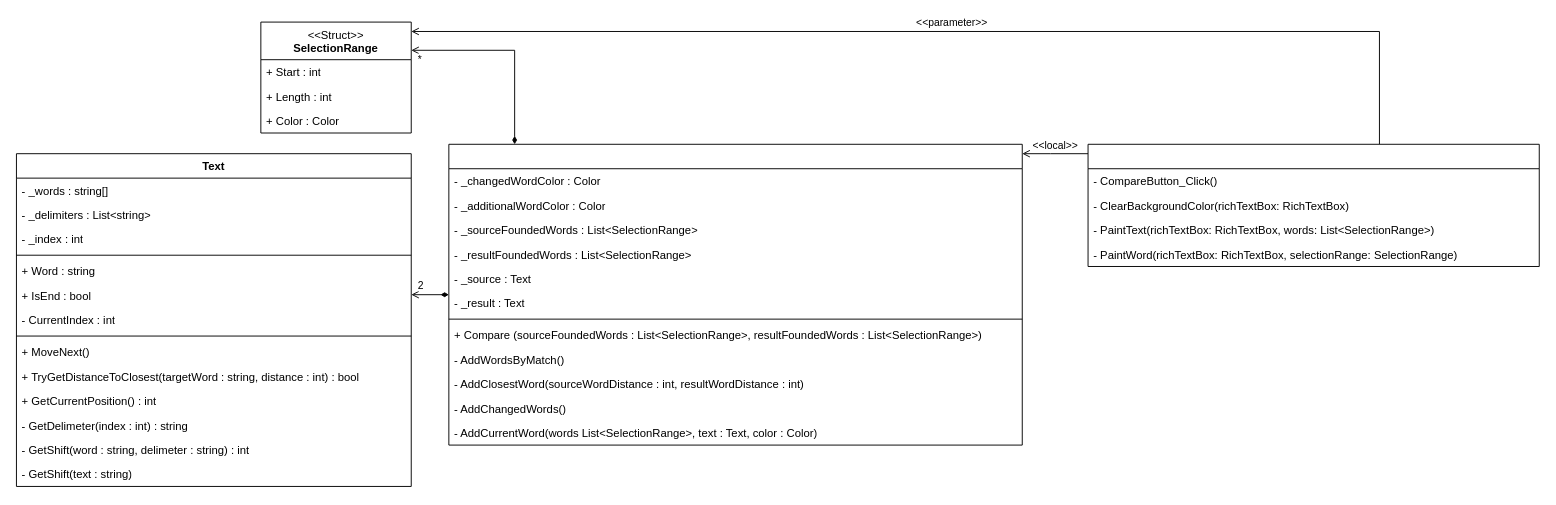
Some shapes in this 1556 by 505 pixel diagram are drawn without their labels. Here are the shapes that lost their labels. From the top down, the box of each, then its label:
(1087, 143, 1539, 266): Form
(448, 143, 1022, 445): TextComparer
